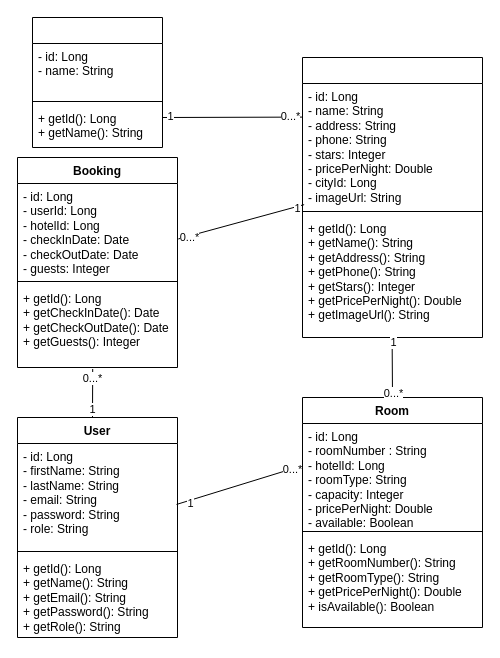
Some shapes in this 500 by 658 pixel diagram are drawn without their labels. The shapes that lost their labels are listed below. From the top down, each one's box as (x1, y1, x2, y2) in pixels, then its label:
(32, 16, 162, 148): City
(302, 56, 482, 338): Hotel
